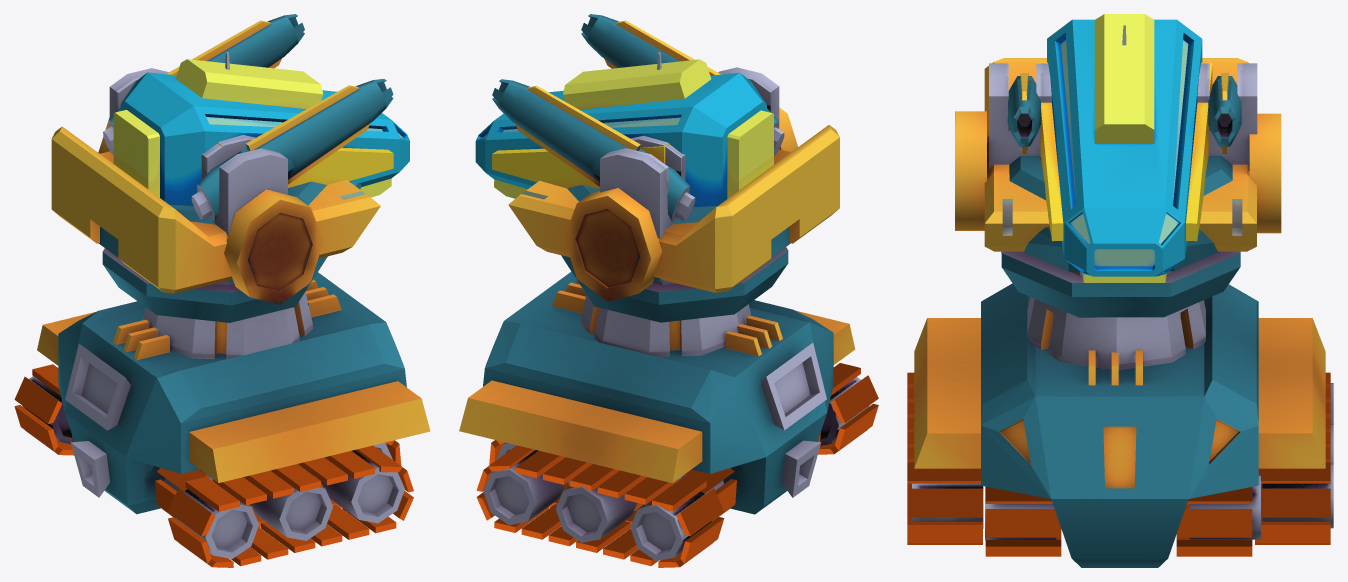
File: Player_Idle_2_Upgrade1.obj
The picture shows the model from 3 angles, left to right: view 1: azimuth 30°, elevation 25°; view 2: azimuth 150°, elevation 25°; view 3: azimuth 270°, elevation 25°; orthographic projection. The views are drawn at different scales.
Parts seen in each view (by area): view 1: Object008, Box020, Object014, Box018, Box019, Box017; view 2: Object008, Object014, Box019, Box018, Box020, Box016; view 3: Object008, Box020, Box019, Box016, Box017, Object014, Box018, Box009.
Boxes of the visible parts, <box> form: Object008: <box>37,59,430,514</box>; Box020: <box>168,445,413,567</box>; Object014: <box>103,14,393,220</box>; Box018: <box>22,376,404,558</box>; Box019: <box>14,364,74,455</box>; Box017: <box>155,440,401,527</box>; Object008: <box>459,59,855,514</box>; Object014: <box>492,14,784,222</box>; Box019: <box>476,445,724,567</box>; Box018: <box>483,377,869,560</box>; Box020: <box>818,363,878,454</box>; Box016: <box>489,440,736,524</box>; Object008: <box>914,14,1325,567</box>; Box020: <box>907,372,982,544</box>; Box019: <box>1255,372,1330,544</box>; Box016: <box>1176,487,1252,556</box>; Box017: <box>985,486,1061,556</box>; Object014: <box>1007,73,1241,153</box>; Box018: <box>912,383,1333,528</box>; Box009: <box>985,475,1260,540</box>.
Size of the model in its own units: 65.77 by 85.01 by 68.55.
Materials: 5 (3 with a texture image).
